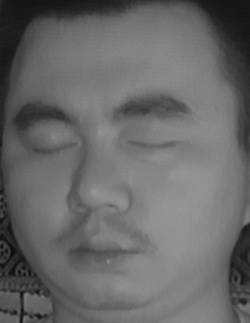blink: (125, 123, 177, 164), (28, 129, 75, 167)
mouth: (57, 223, 142, 275)
